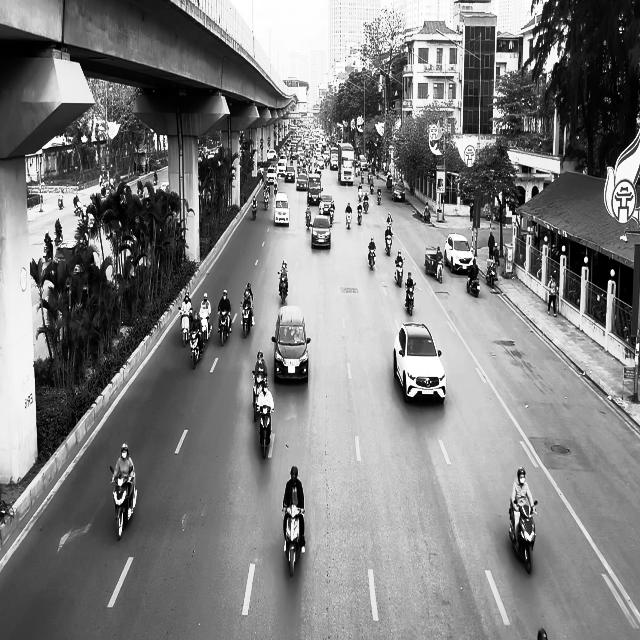bus: (338, 142, 355, 186)
car: (394, 322, 446, 404), (272, 304, 312, 382), (444, 233, 474, 274), (311, 215, 331, 249), (274, 192, 290, 226), (319, 193, 334, 215), (392, 182, 406, 201), (296, 172, 308, 190)
motorbike: (509, 499, 538, 574), (110, 465, 138, 540), (283, 505, 305, 576), (258, 404, 273, 458), (252, 371, 267, 421), (179, 307, 193, 347), (218, 310, 232, 346), (240, 300, 253, 338), (190, 328, 202, 368), (405, 282, 417, 315), (278, 271, 289, 304), (200, 314, 211, 346), (486, 259, 497, 287), (467, 274, 480, 297), (395, 259, 404, 287), (44, 239, 54, 261), (385, 229, 393, 256), (368, 246, 376, 270), (436, 260, 443, 283), (263, 189, 270, 210), (346, 210, 353, 229), (357, 205, 363, 225), (305, 213, 312, 230), (424, 208, 431, 222), (252, 201, 257, 220), (377, 188, 382, 204)
